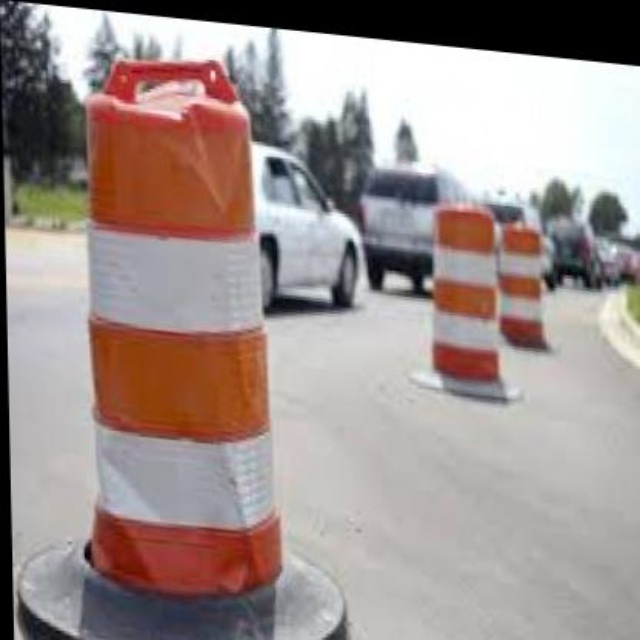obstacle: (63, 36, 299, 622), (419, 188, 502, 384), (498, 212, 550, 352)
